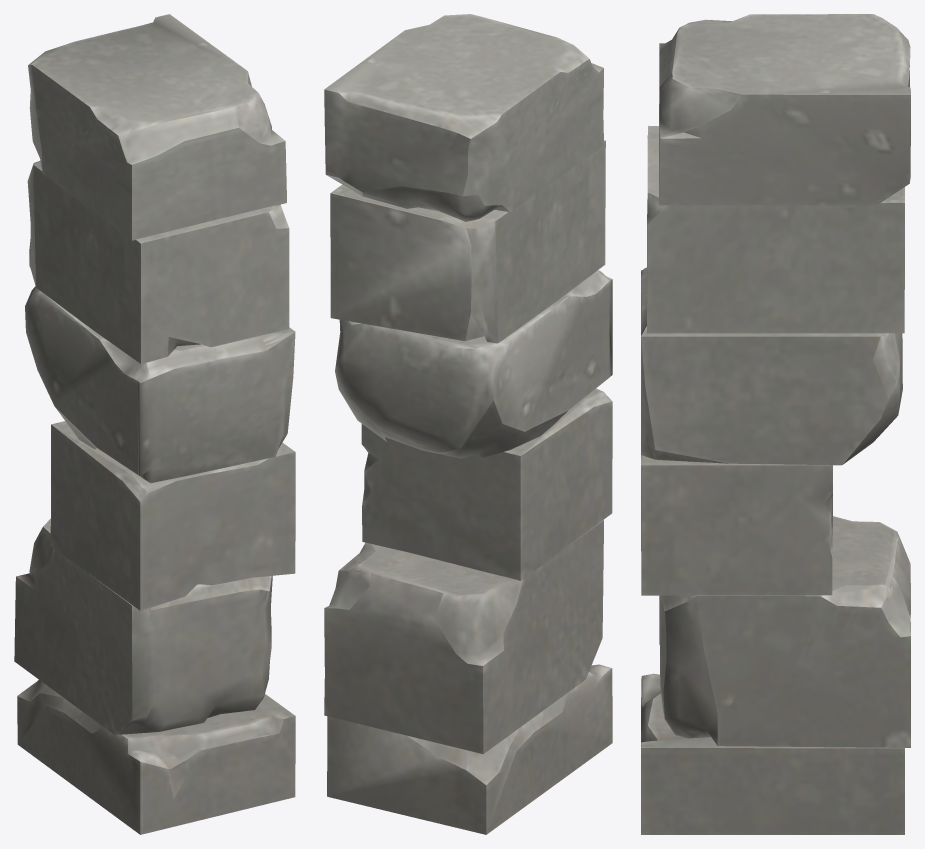
File: ramp_mod_blocks000a.fbx
3 renders of one model, left to right at view 1: azimuth 30°, elevation 25°; view 2: azimuth 150°, elevation 25°; view 3: azimuth 270°, elevation 25°, orthographic. The views are drawn at different scales.
Parts seen in each view (by area): view 1: ramp_mod_blocks000a; view 2: ramp_mod_blocks000a; view 3: ramp_mod_blocks000a.
Part boxes in pixels (x1,y1,x2,y2): ramp_mod_blocks000a: [14, 14, 295, 834]; ramp_mod_blocks000a: [324, 14, 612, 834]; ramp_mod_blocks000a: [641, 14, 910, 834].
Bounding box in the file's own units: 6405 × 27241 × 9003.
